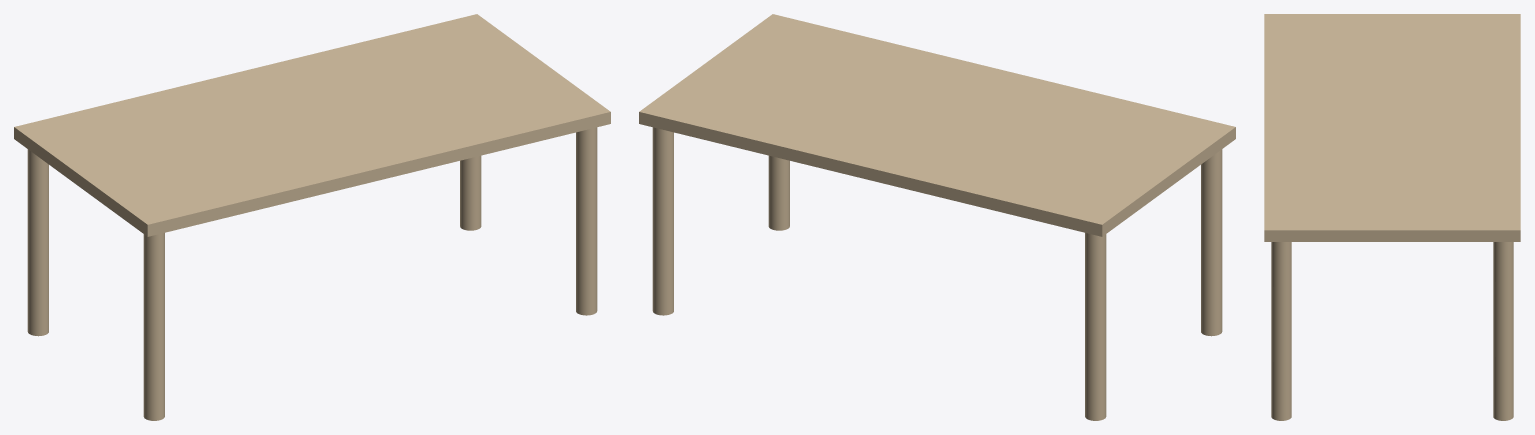
File: newport-101426-g2-proxy.glb
3 views of the same model, side by side, from view 1: azimuth 30°, elevation 25°; view 2: azimuth 150°, elevation 25°; view 3: azimuth 270°, elevation 25° (orthographic). The views are drawn at different scales.
Parts seen in each view (by area): view 1: proxy_body, leg (×4); view 2: proxy_body, leg (×4); view 3: proxy_body, leg (×2).
Part boxes in pixels (bbox=[...]): proxy_body: bbox=[14, 14, 610, 236]; leg (×4): bbox=[27, 127, 597, 420]; proxy_body: bbox=[639, 14, 1235, 236]; leg (×4): bbox=[652, 127, 1222, 420]; proxy_body: bbox=[1264, 14, 1520, 241]; leg (×2): bbox=[1271, 242, 1513, 420].
Size of the model in its own units: 1.8 by 0.75 by 0.9.
